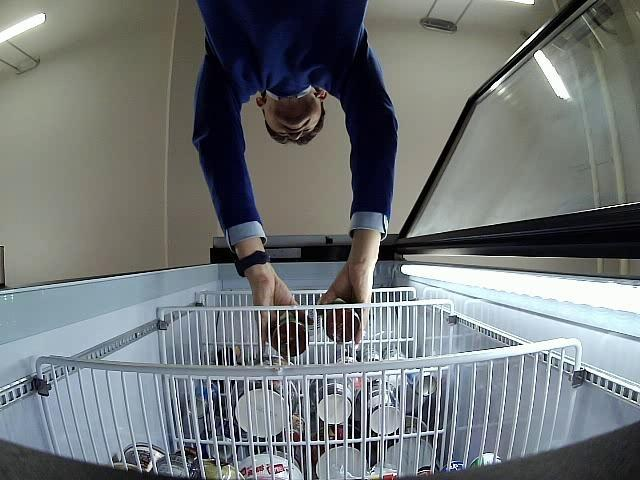19_17cha: (272, 312, 308, 359), (325, 298, 361, 343)
